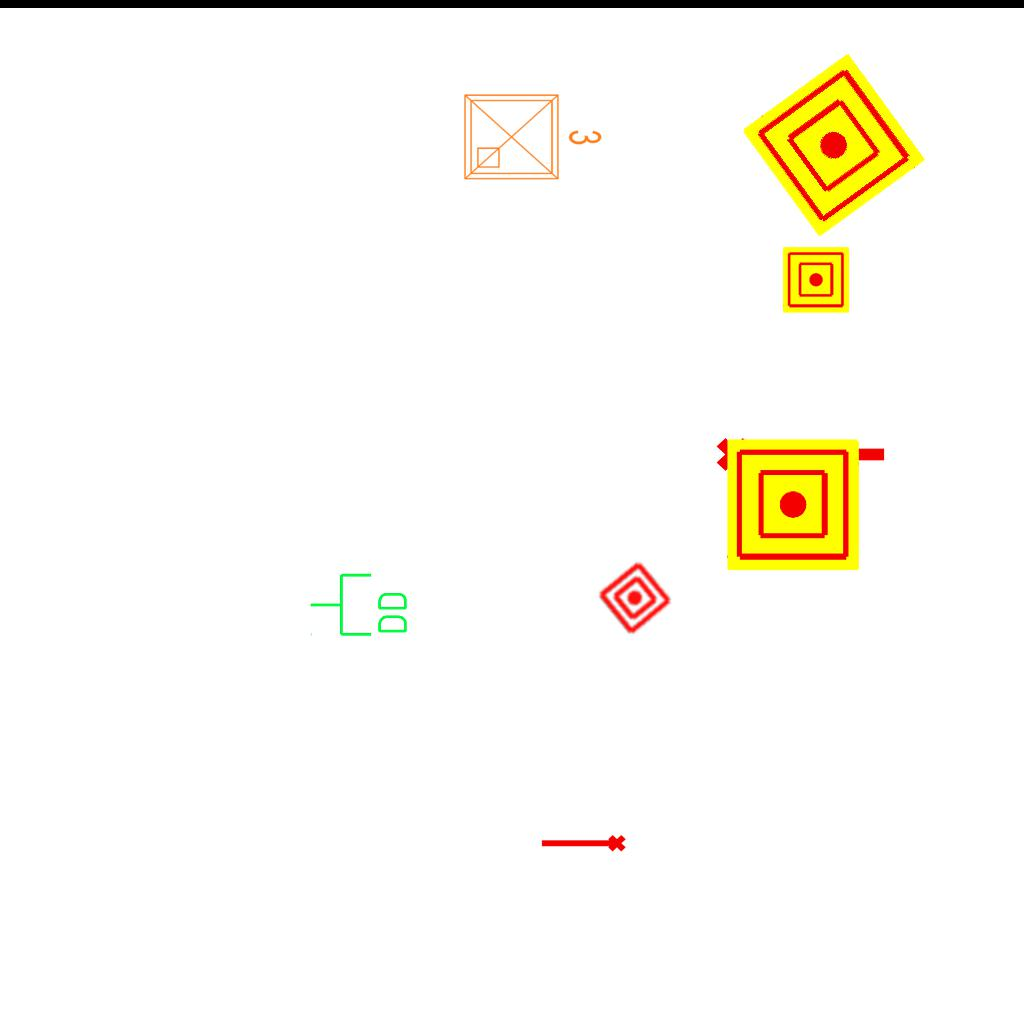ASR_Ansaugoeffnung: (714, 429, 890, 475), (539, 833, 627, 856)
Datenanschluss_zweifach: (308, 571, 411, 640)
Einbaudownlights_LED_Konferenzraeume: (457, 83, 607, 187)
NAM-Nichtautomatischer_Melder: (741, 52, 927, 238), (727, 439, 859, 571), (595, 558, 675, 638), (783, 247, 849, 313)
